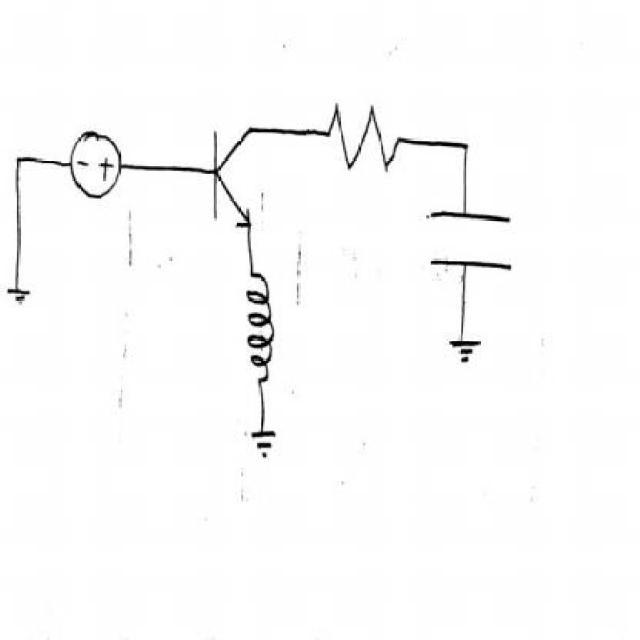capacitor: (414, 203, 531, 279)
ground: (234, 416, 292, 469), (440, 331, 503, 376), (1, 271, 42, 321)
inductor: (238, 266, 285, 386)
resistor: (322, 89, 408, 178)
transistor: (203, 110, 261, 242)
voltage_source: (64, 119, 136, 215)
